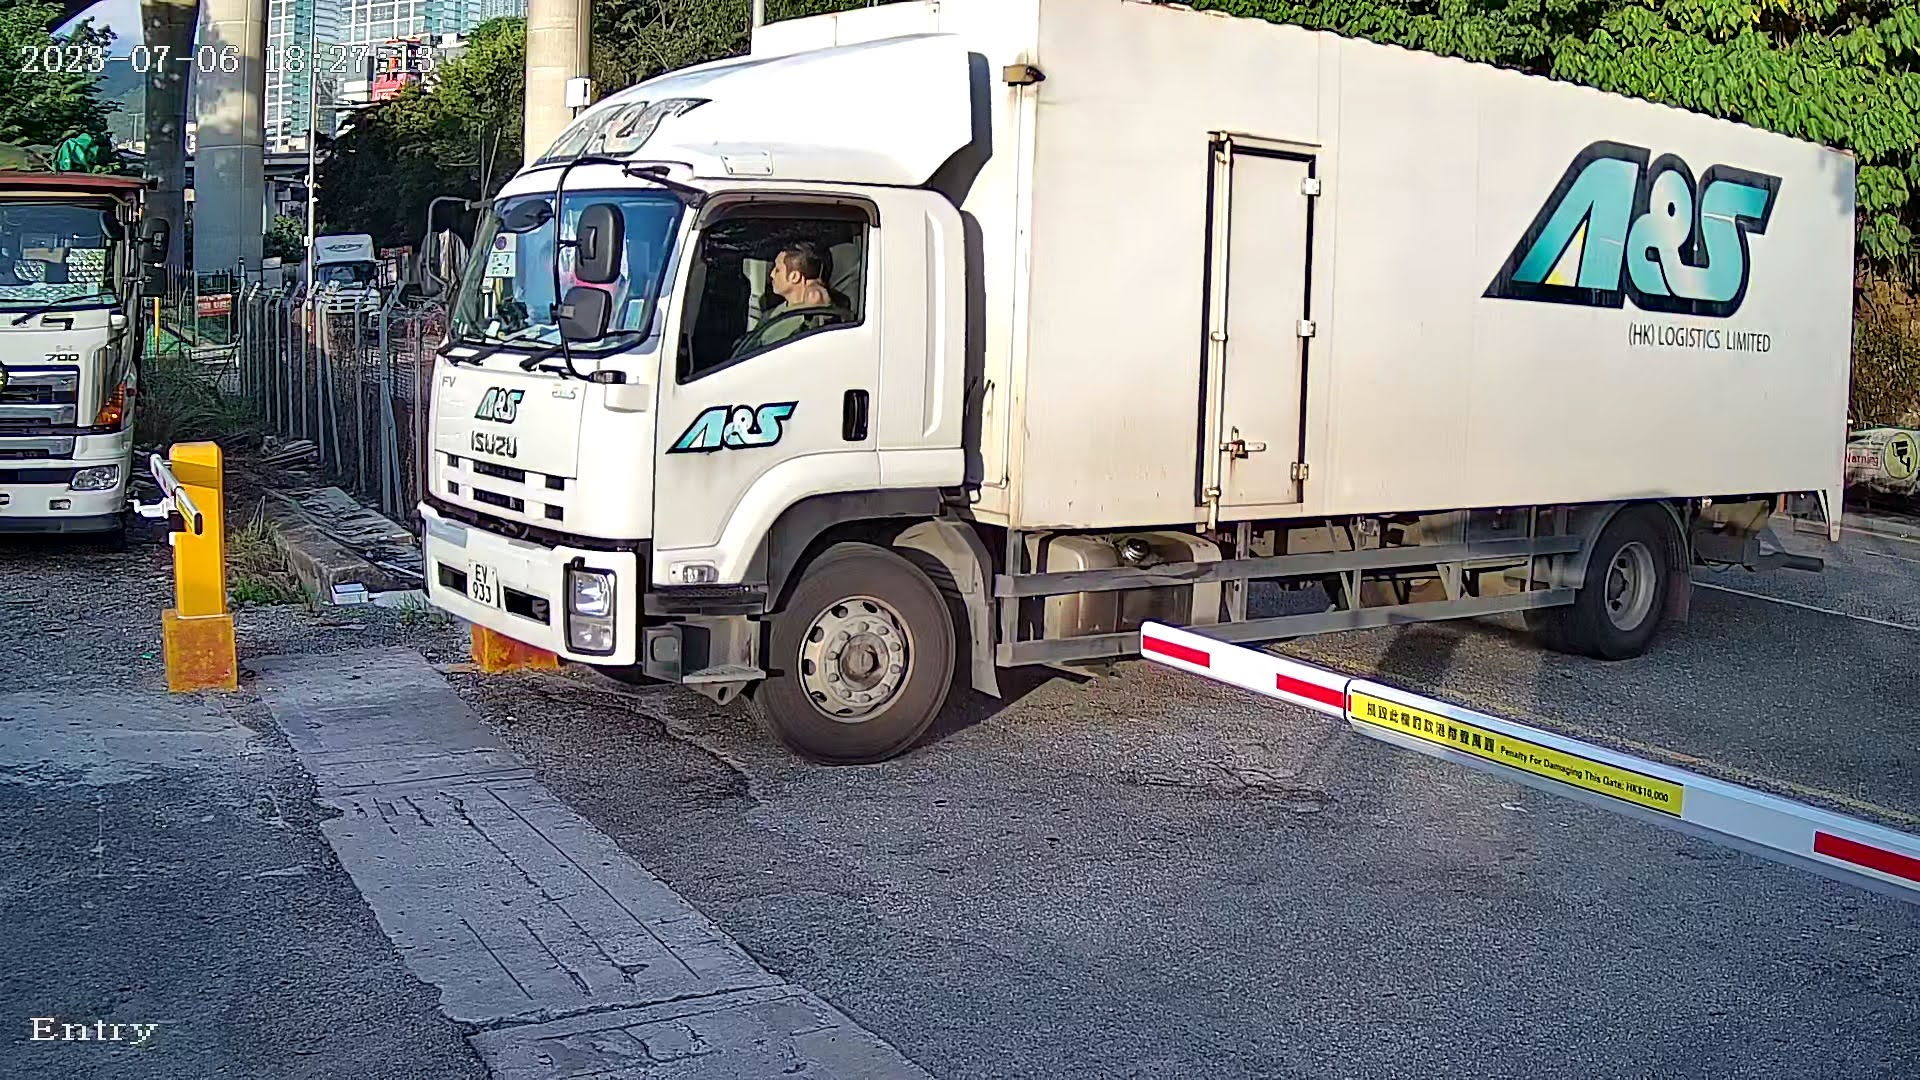truck_large: (369, 1, 1869, 753)
